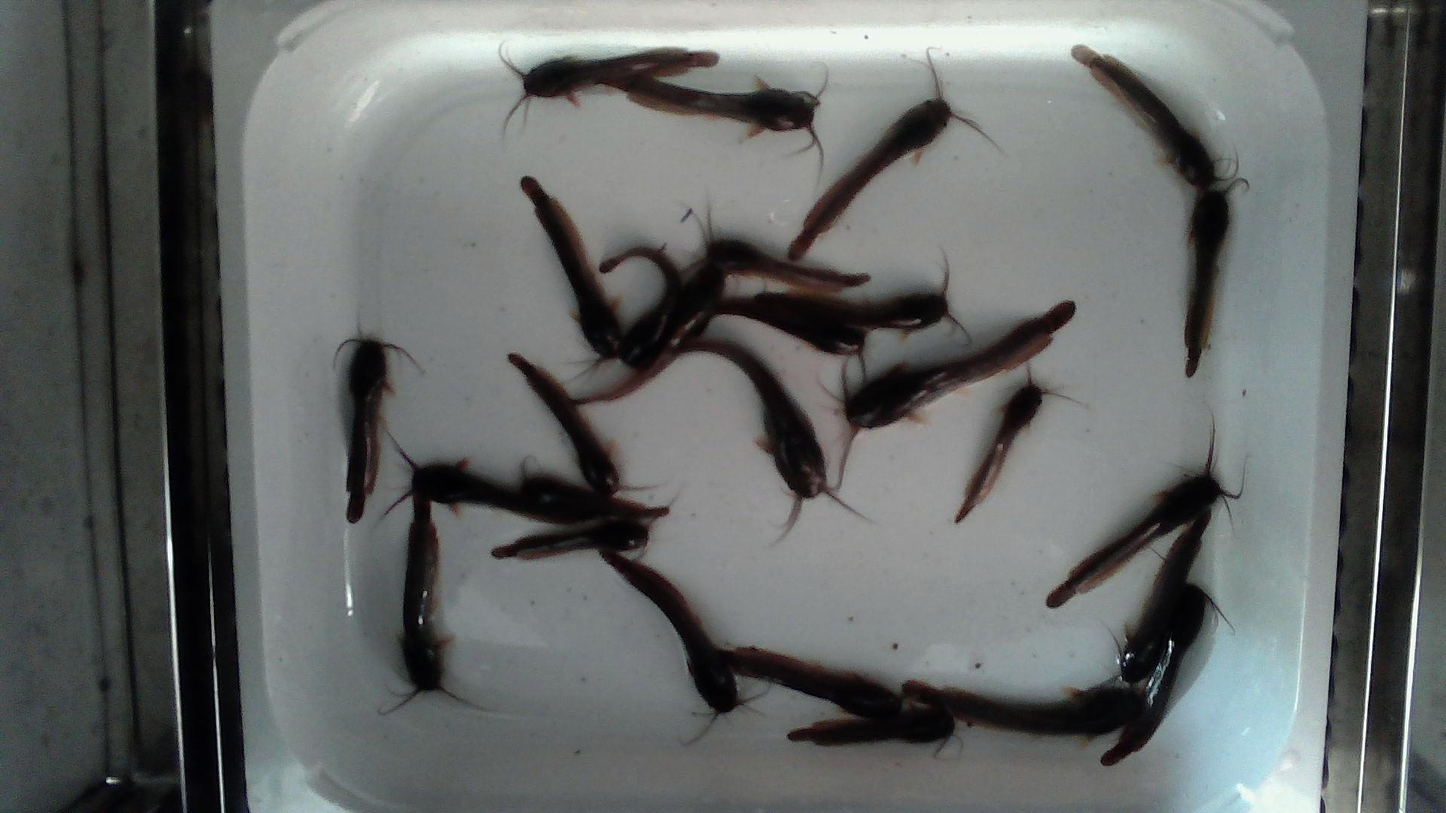lele: (835, 302, 1075, 489), (788, 50, 993, 261), (678, 336, 865, 536), (1047, 434, 1222, 606), (600, 550, 738, 711), (570, 265, 728, 403), (1071, 44, 1214, 187), (1102, 586, 1204, 766), (521, 178, 622, 357), (606, 77, 825, 152), (502, 48, 719, 122), (508, 354, 618, 494), (1123, 508, 1213, 679), (388, 451, 591, 524), (956, 379, 1048, 522), (903, 682, 1146, 735), (723, 649, 901, 717), (1184, 178, 1242, 376), (680, 298, 866, 356), (599, 246, 682, 368), (344, 338, 396, 522), (705, 238, 871, 292), (401, 493, 441, 690), (756, 293, 949, 329), (786, 707, 956, 747), (523, 474, 669, 516), (491, 521, 650, 557)
